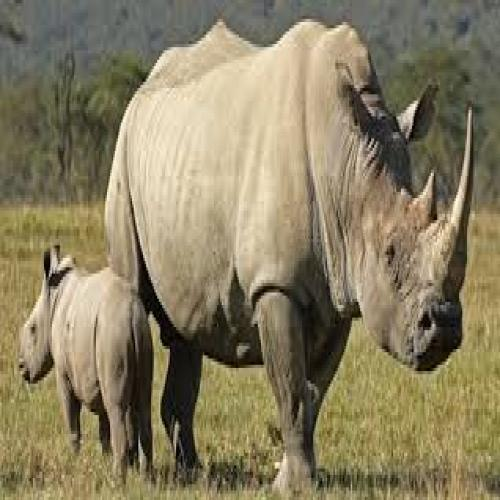rhino-endangered: (100, 29, 476, 484), (14, 243, 157, 492)
